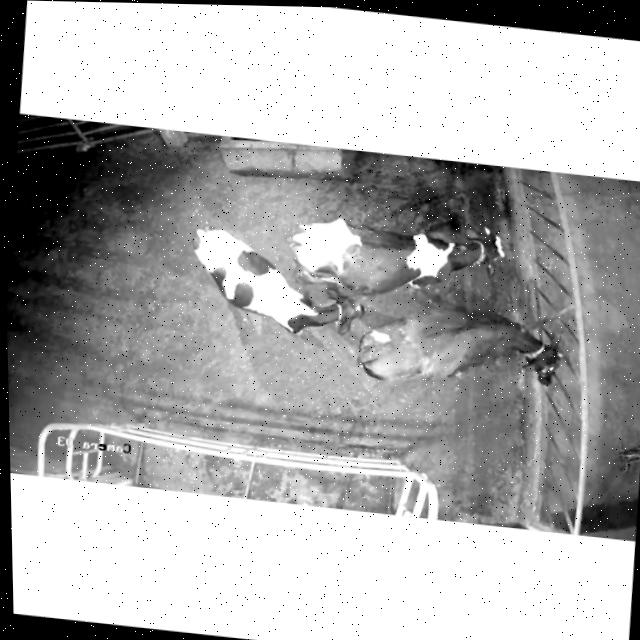stand: (162, 221, 378, 351), (280, 196, 511, 312)
